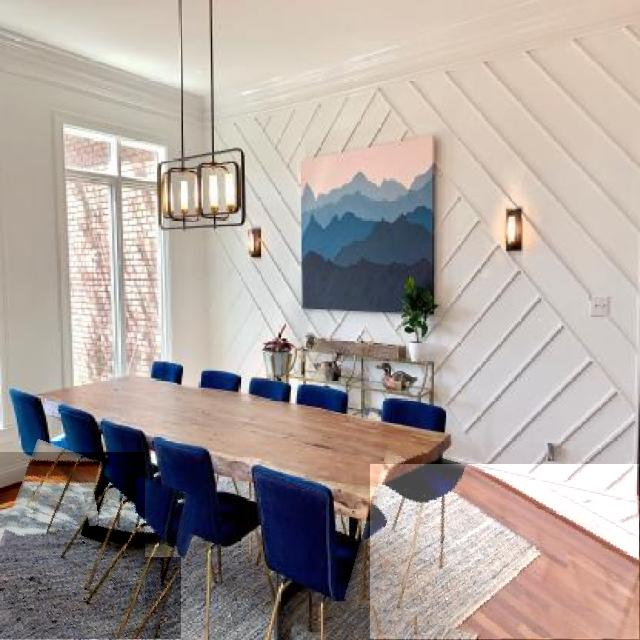floor: (371, 465, 640, 639), (0, 452, 145, 640), (114, 557, 181, 640), (84, 491, 99, 526), (107, 497, 120, 522)
